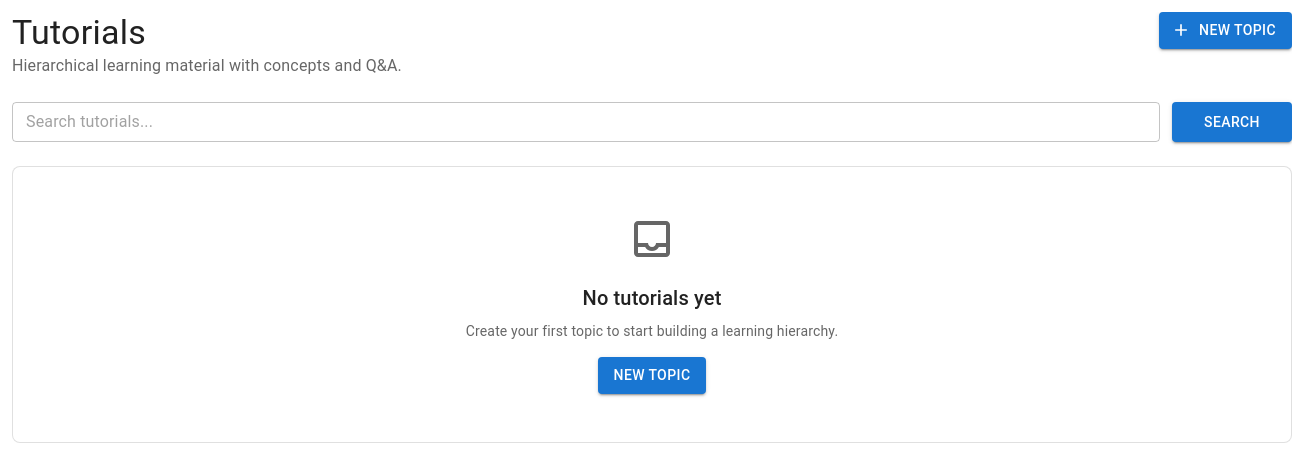
TutorialsHomePage search › shows no-result empty state for submitted empty matches
In the field labelled "Search tutorials": (586, 122) [12,102,1160,142], type "missing-term"
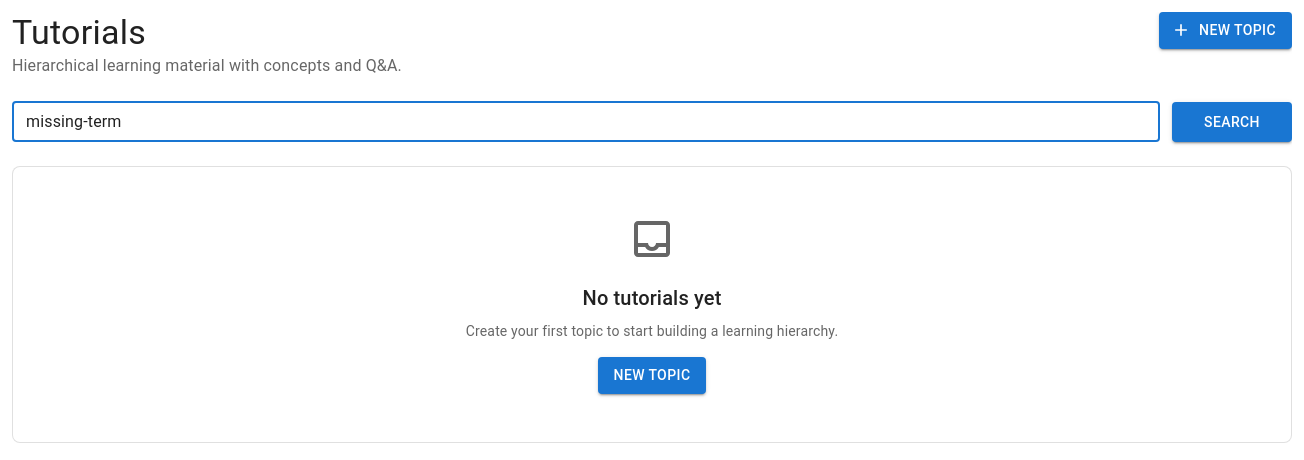
Click the button "Search": (1232, 122) [1172,102,1292,142]
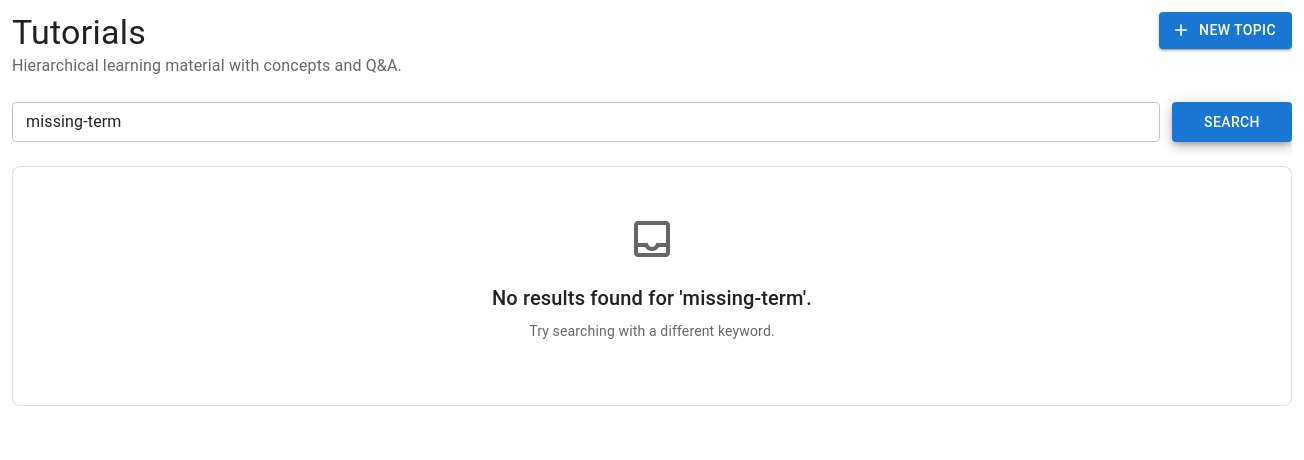
expect the heading "No results found for 'missing-term'." is shown: met, box [492,286,812,310]
expect the text "Try searching with a different keyword." is shown: met, box [529,323,775,339]
